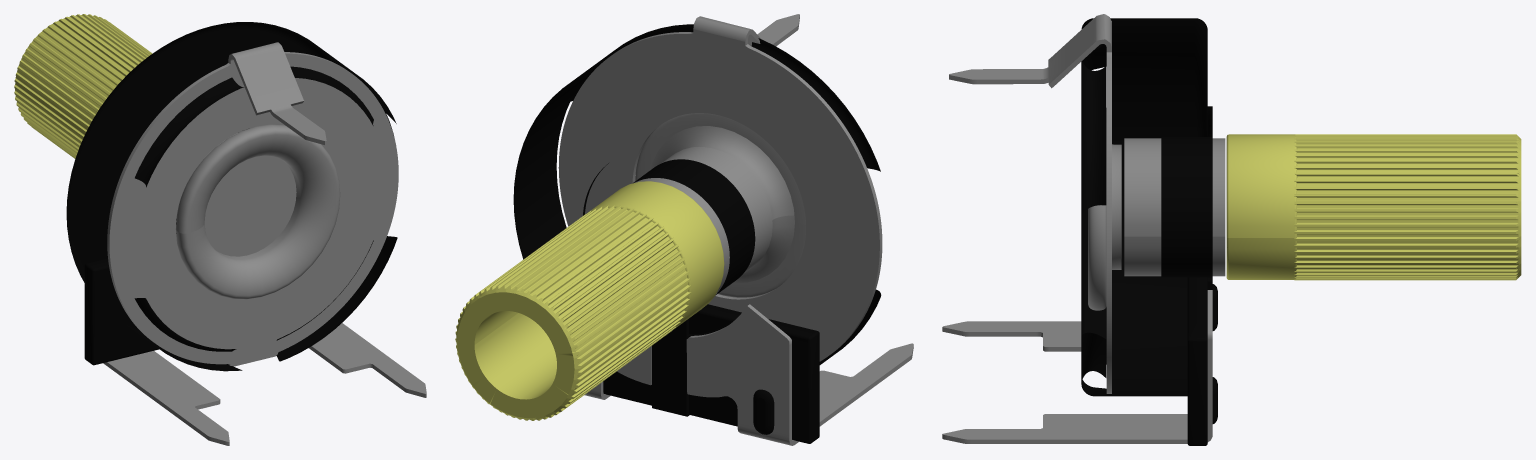
File: potentiometer.glb
3 views of the same model, side by side, from view 1: azimuth 30°, elevation 25°; view 2: azimuth 150°, elevation 25°; view 3: azimuth 270°, elevation 25° (orthographic). The views are drawn at different scales.
Visible parts, largest first — view 1: imagetostl_mesh_2; view 2: imagetostl_mesh_2; view 3: imagetostl_mesh_2.
Boxes of the visible parts, x1,y1,x2,y2 form: imagetostl_mesh_2: (14, 14, 426, 445); imagetostl_mesh_2: (455, 14, 913, 445); imagetostl_mesh_2: (942, 14, 1521, 445).
Bounding box in the file's own units: 1.5 × 1.57 × 2.3.
